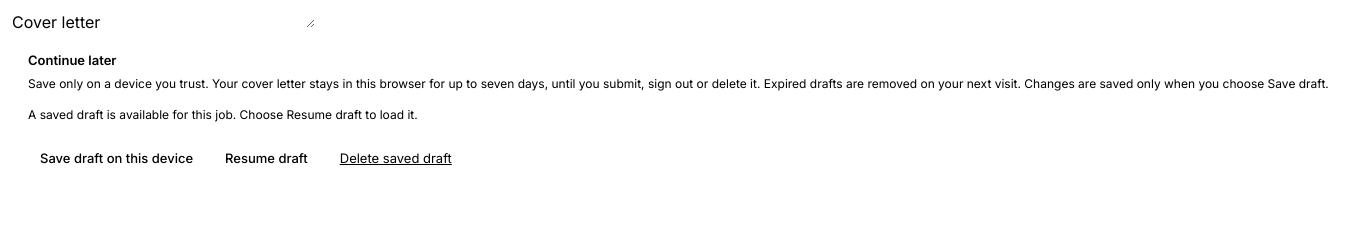
reports failed deletion and keeps the stored draft available
Click the button "Delete saved draft" at [396, 158], box [328,136,464,180]
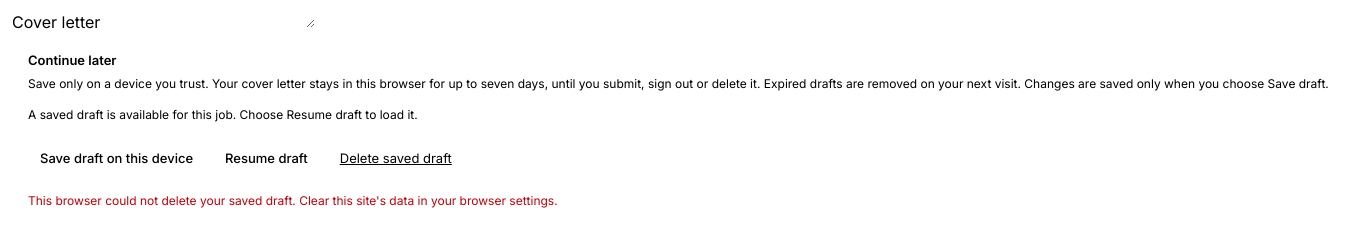
Expected: the button "Resume draft" is shown, [213,136,320,180]
Expected: the message shows "could not delete", [28,192,558,208]
